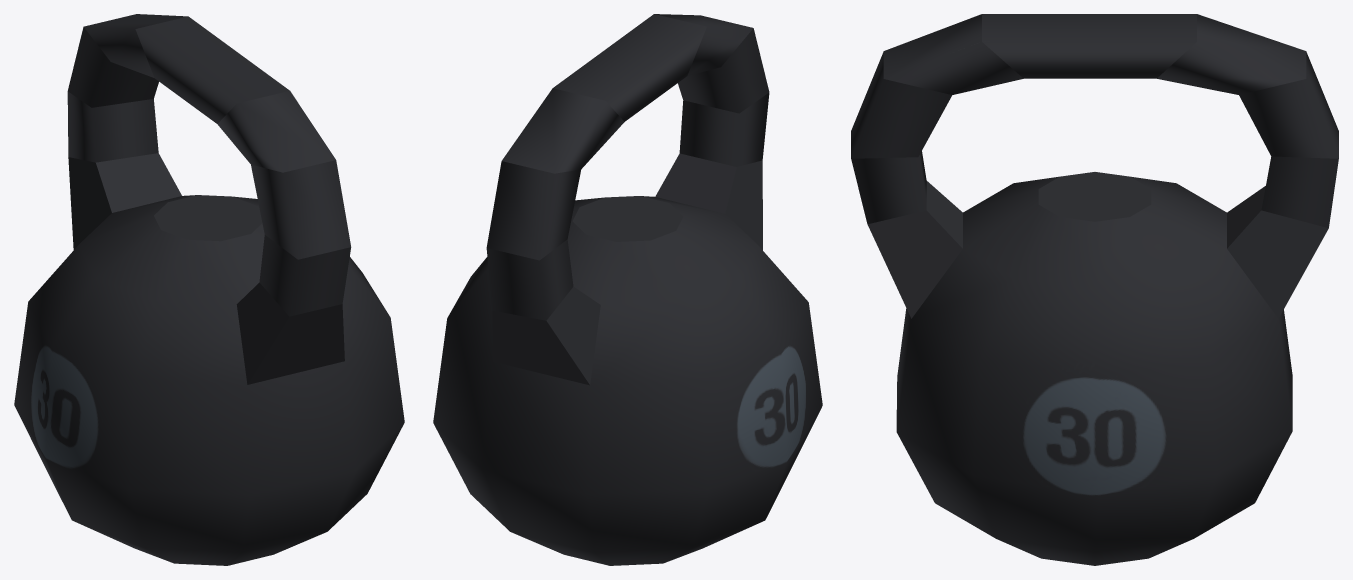
File: Girya.fbx
3 views of the same model, side by side, from view 1: azimuth 30°, elevation 25°; view 2: azimuth 150°, elevation 25°; view 3: azimuth 270°, elevation 25° (orthographic). The views are drawn at different scales.
Parts seen in each view (by area): view 1: pCylinder2; view 2: pCylinder2; view 3: pCylinder2.
Part boxes in pixels (left/top/right/bottom): pCylinder2: left=14, top=14, right=404, bottom=565; pCylinder2: left=433, top=14, right=822, bottom=565; pCylinder2: left=851, top=14, right=1338, bottom=565.
Bounding box in the file's own units: 3643 × 5102 × 4503.
1 material, 1 textured.
